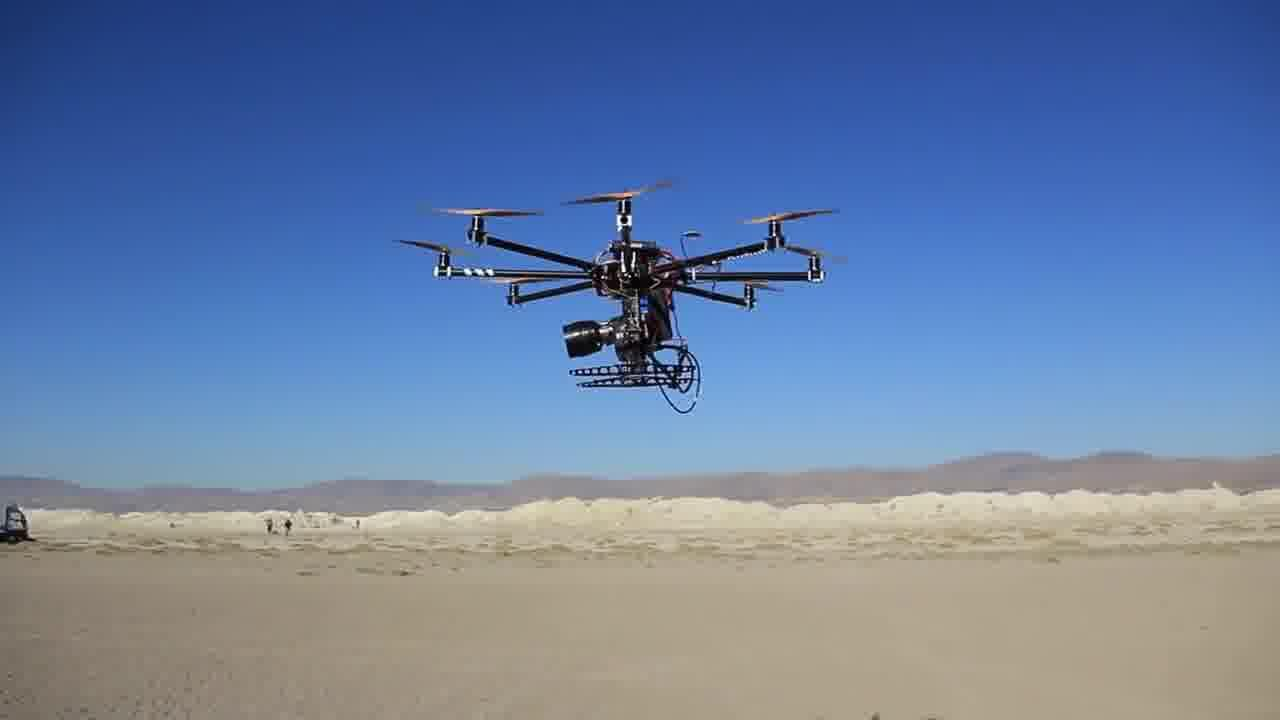drone: (383, 181, 847, 409)
